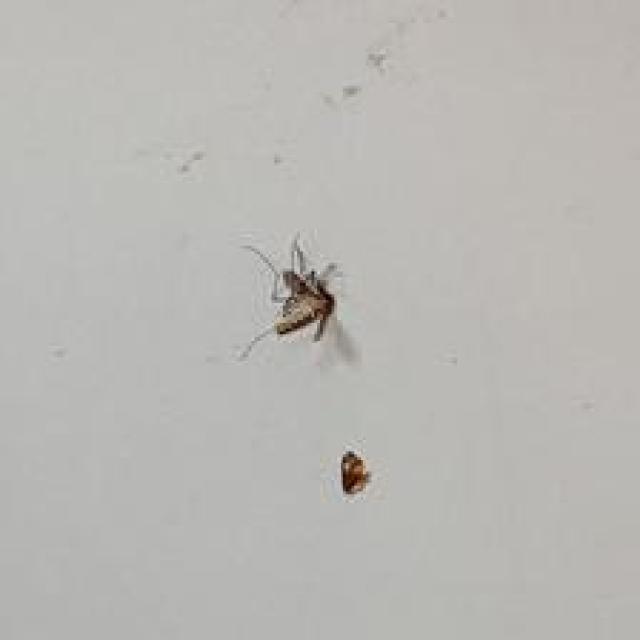Culex: (236, 231, 347, 360)
